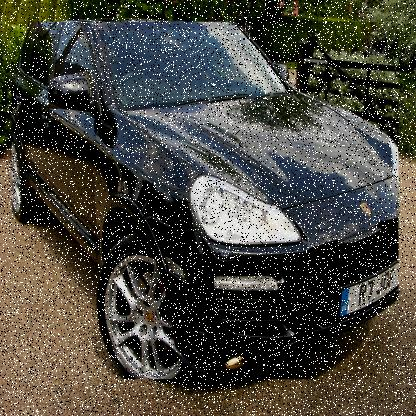Car: (12, 22, 399, 380)
